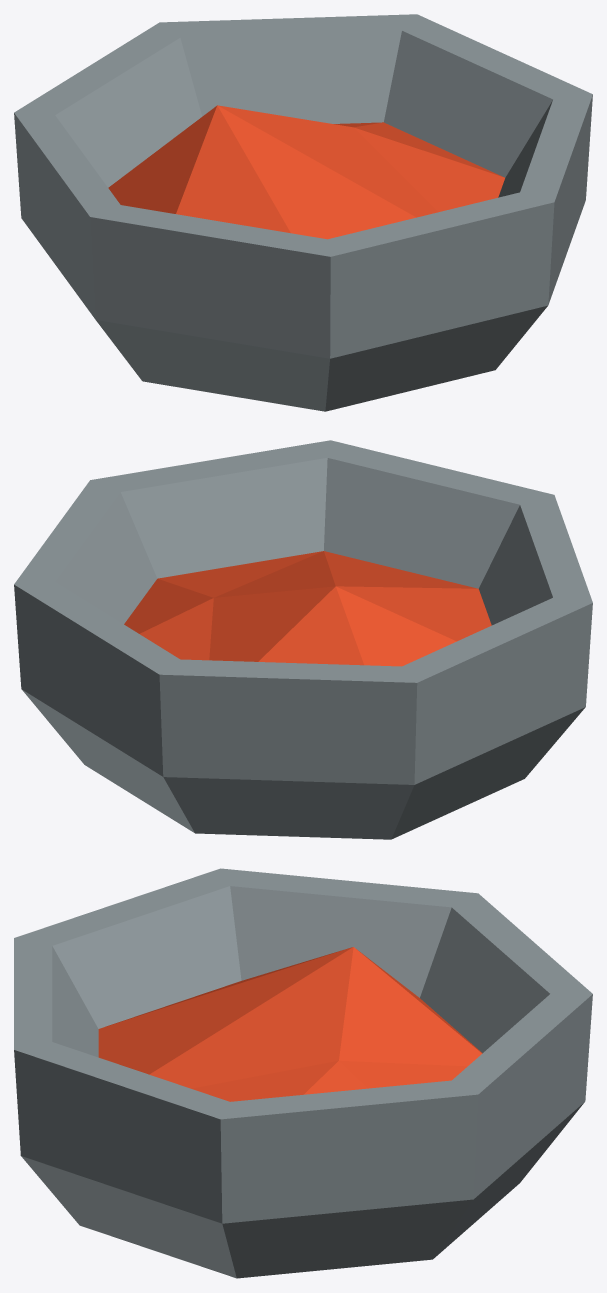
The model's file is Ramekin.glb.
3 views of the same model, one above another, from view 1: azimuth 30°, elevation 25°; view 2: azimuth 150°, elevation 25°; view 3: azimuth 270°, elevation 25° (orthographic). The views are drawn at different scales.
Parts seen in each view (by area): view 1: Ramekin; view 2: Ramekin; view 3: Ramekin.
Boxes of the visible parts, x1,y1,x2,y2 form: Ramekin: [14, 14, 592, 411]; Ramekin: [14, 440, 592, 839]; Ramekin: [14, 868, 592, 1278].
Bounding box in the file's own units: 0.0996 × 0.0382 × 0.0971.
